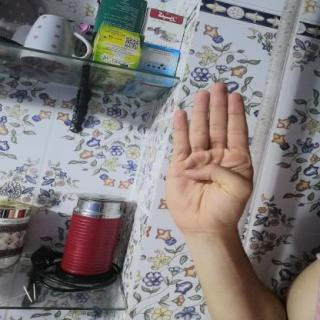KAAF: (153, 73, 264, 243)
